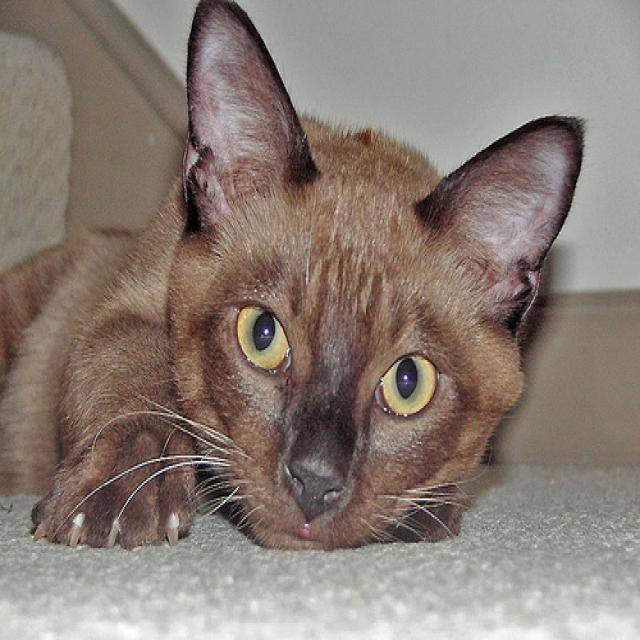cat: (1, 1, 586, 551)
